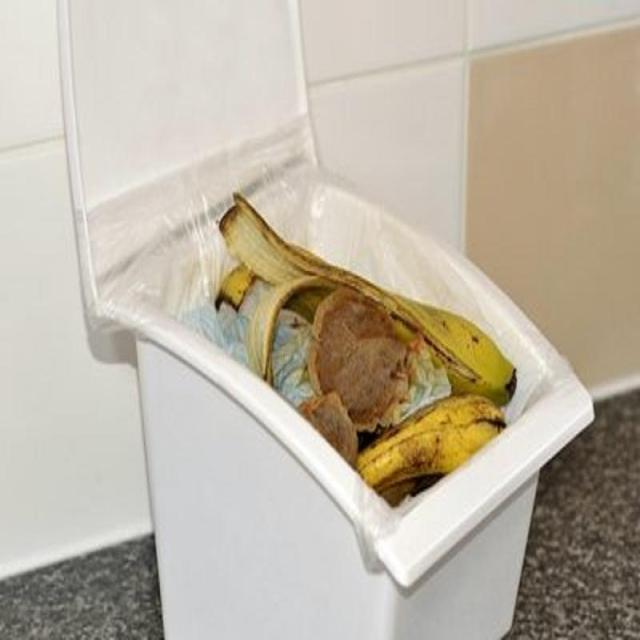Wet: (211, 188, 519, 506)
